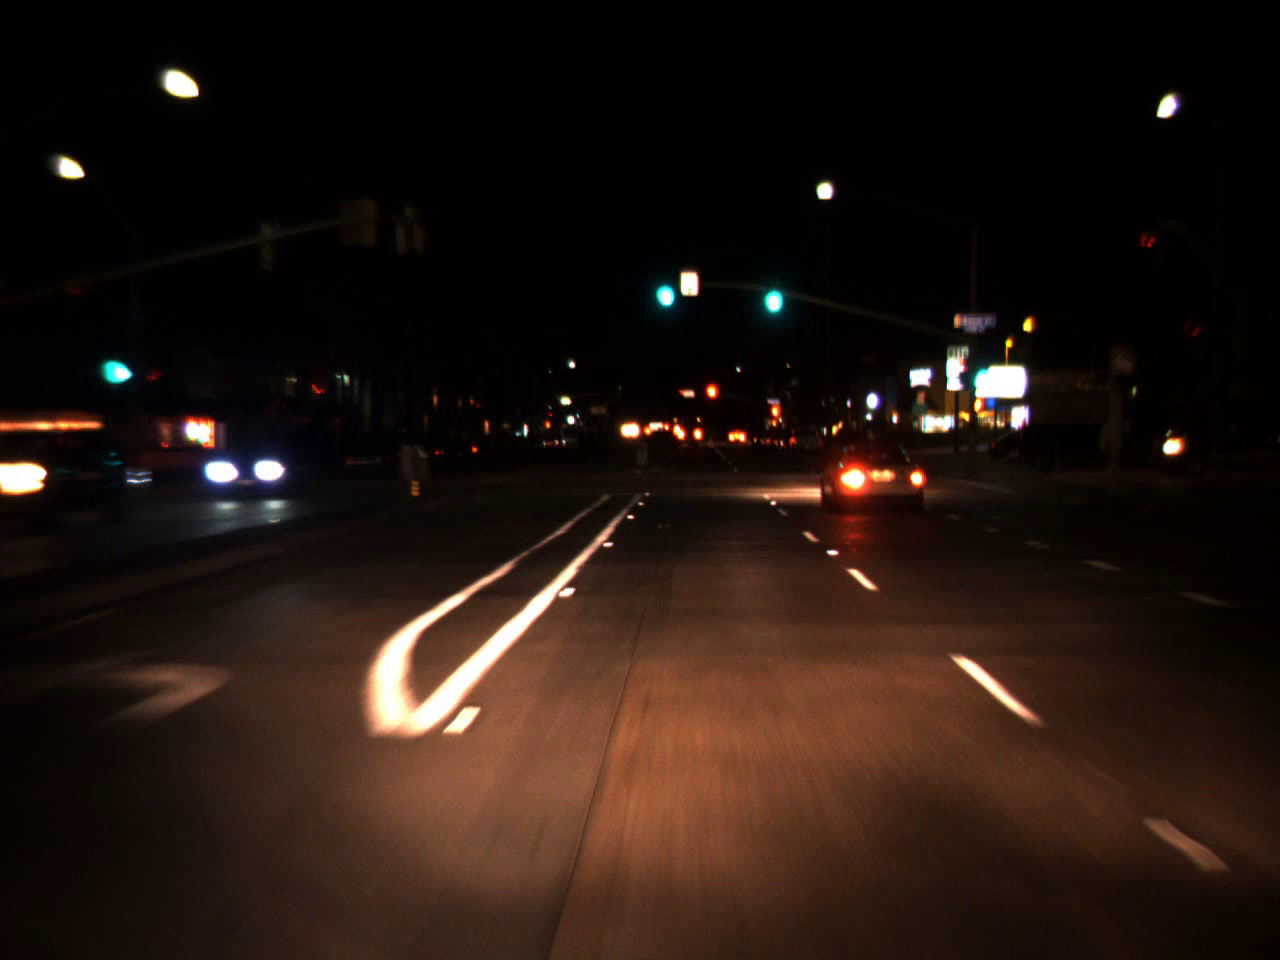go: (92, 332, 137, 392), (758, 259, 786, 322), (968, 341, 993, 398), (650, 263, 678, 311)
stop: (703, 381, 719, 416), (770, 400, 782, 437)
